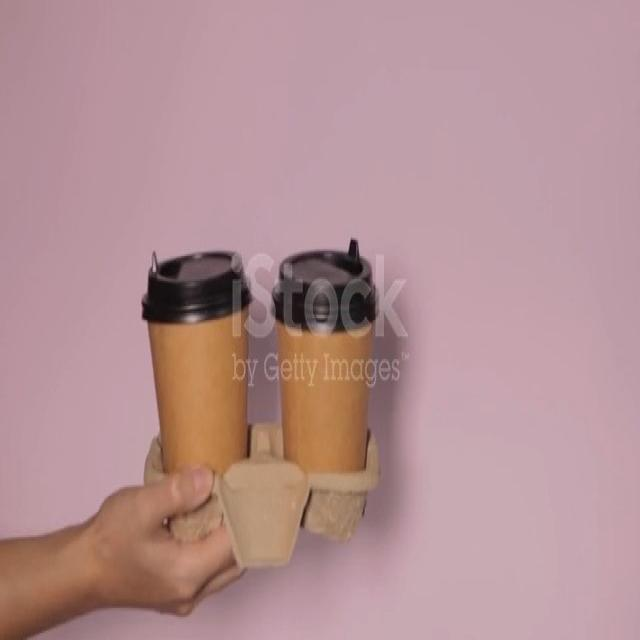cup: (142, 248, 254, 478), (270, 246, 380, 476)
